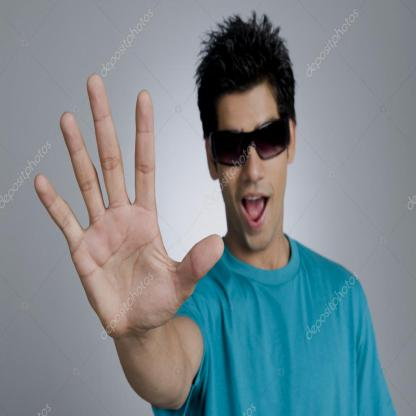Stop: (24, 80, 233, 350)
